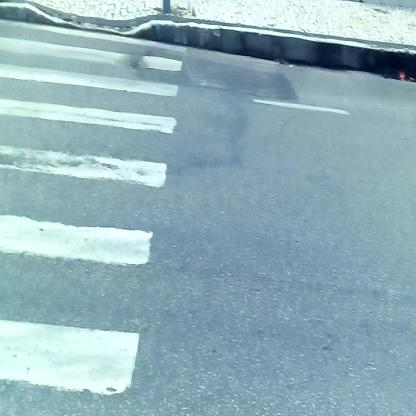crosswalk: (1, 48, 189, 416)
sidewalk: (1, 5, 413, 73)
